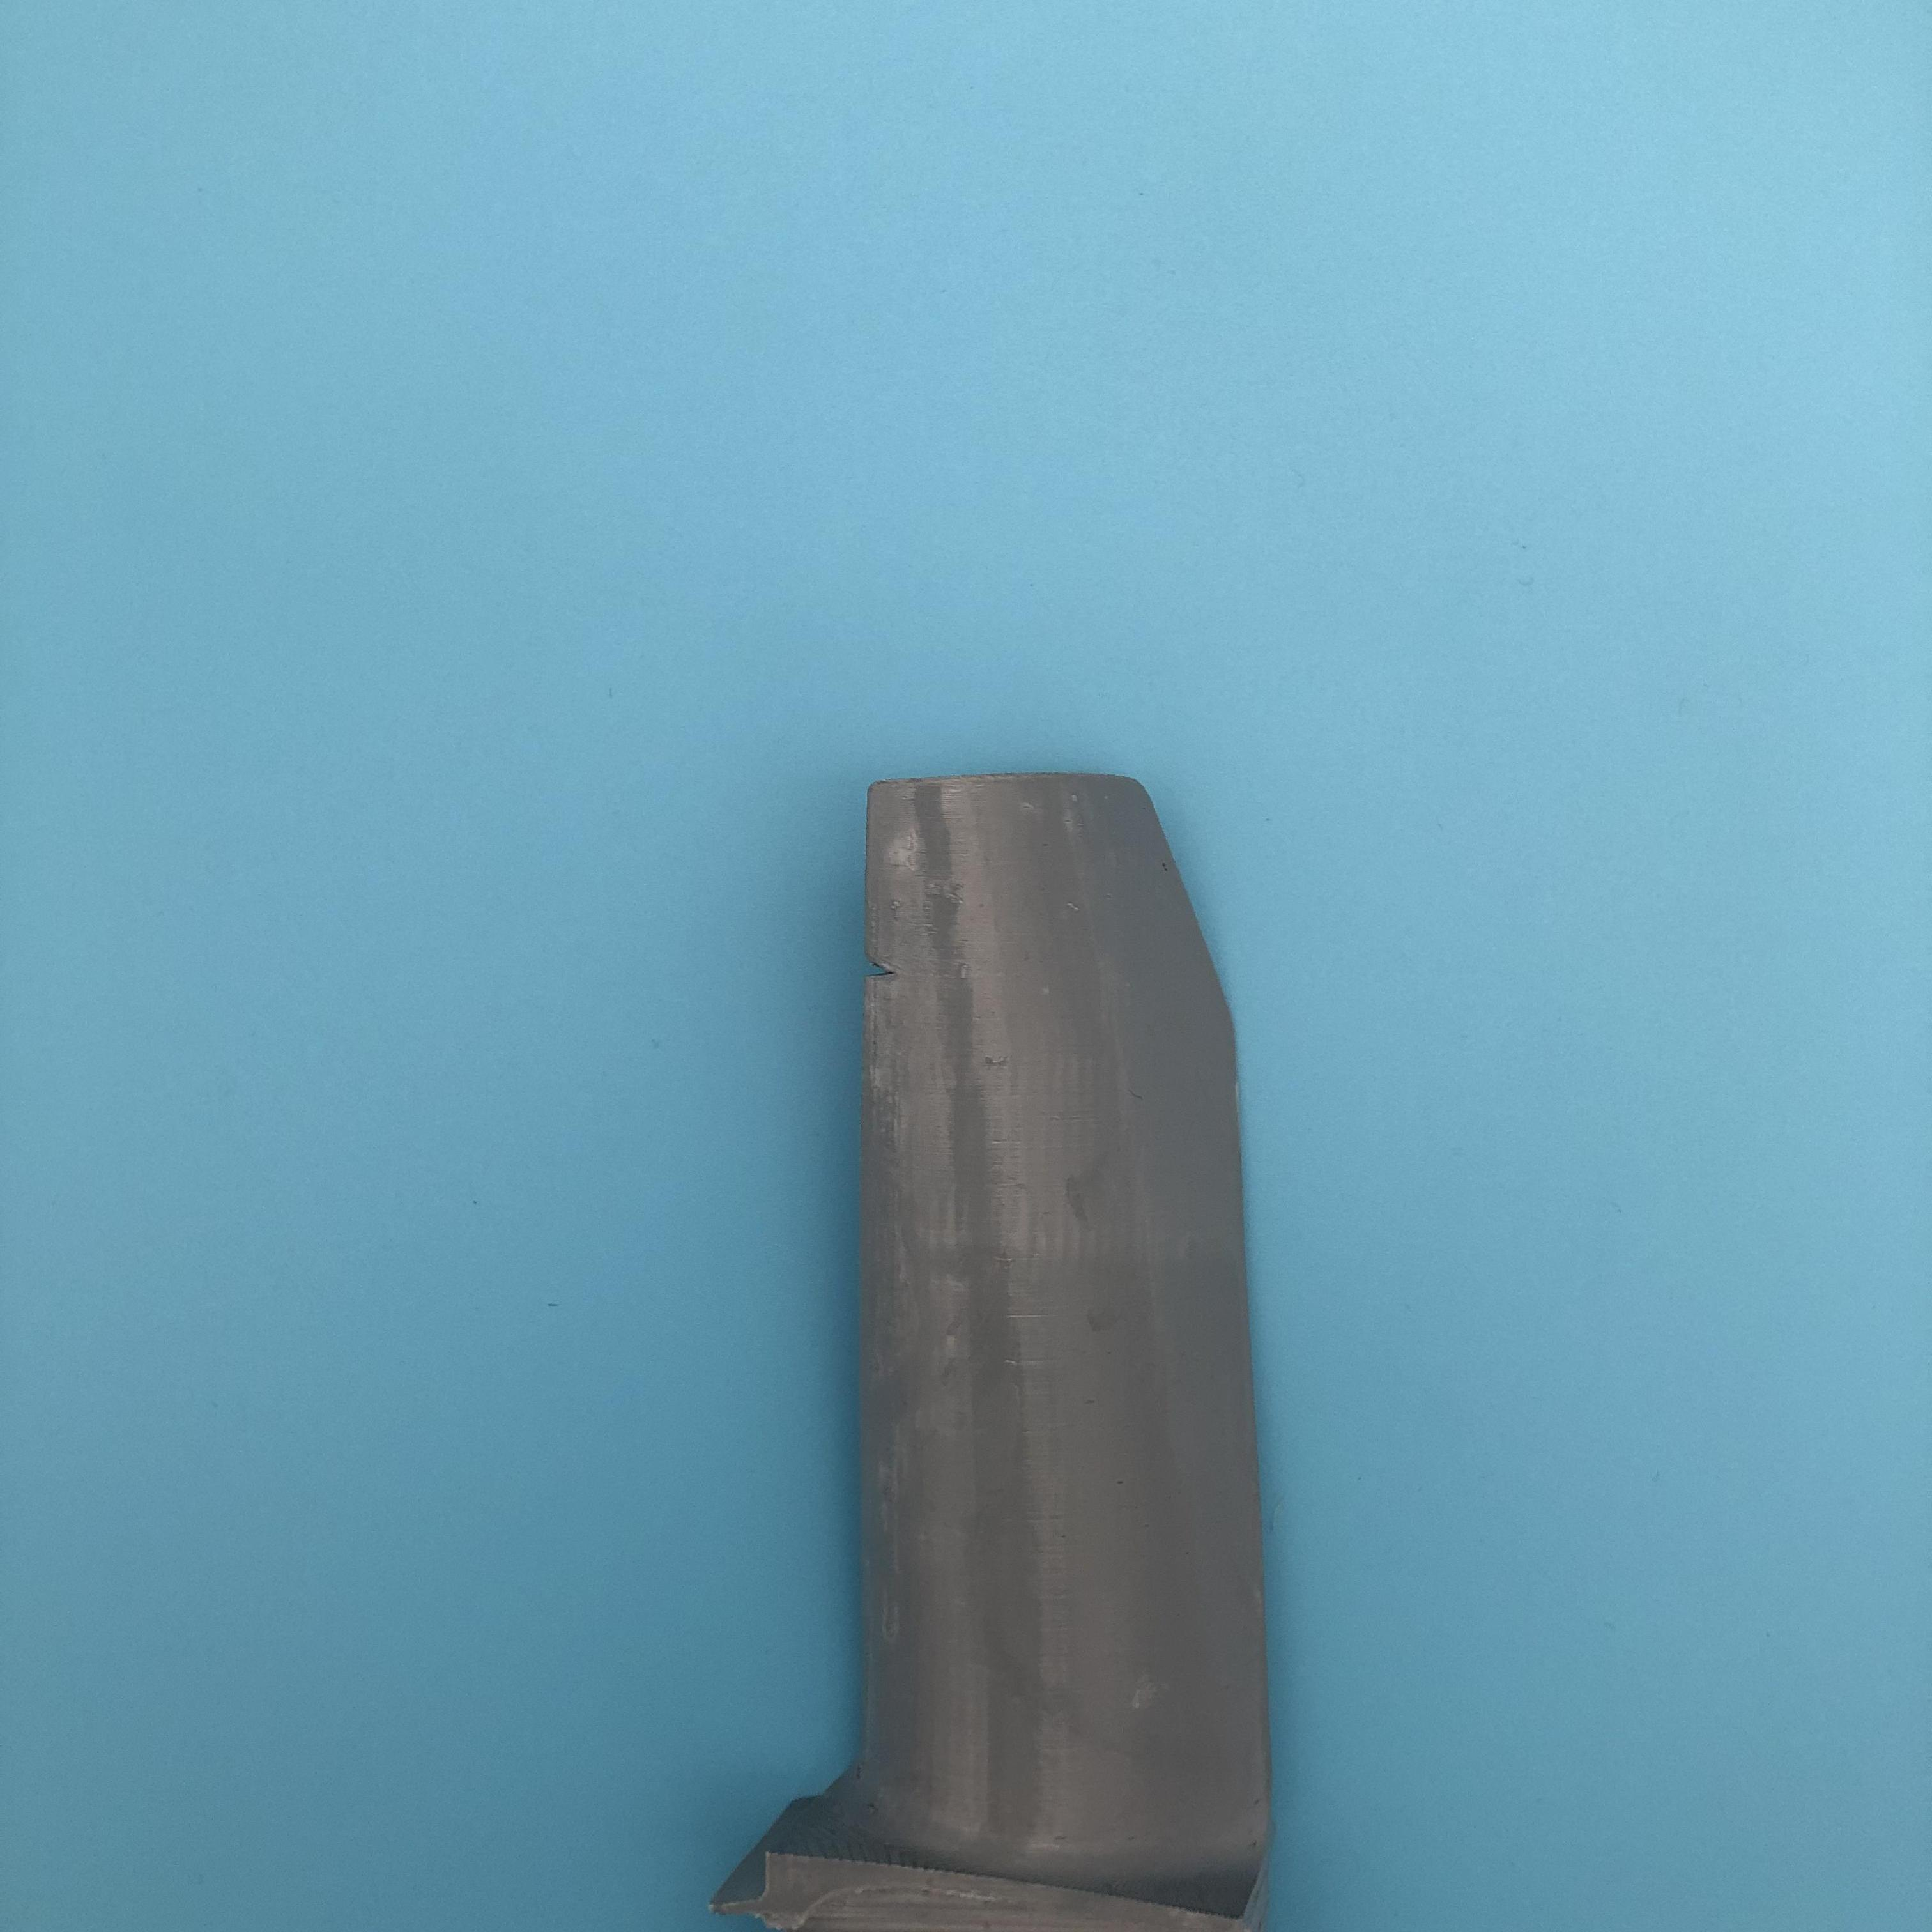groove: (867, 941, 904, 1000)
